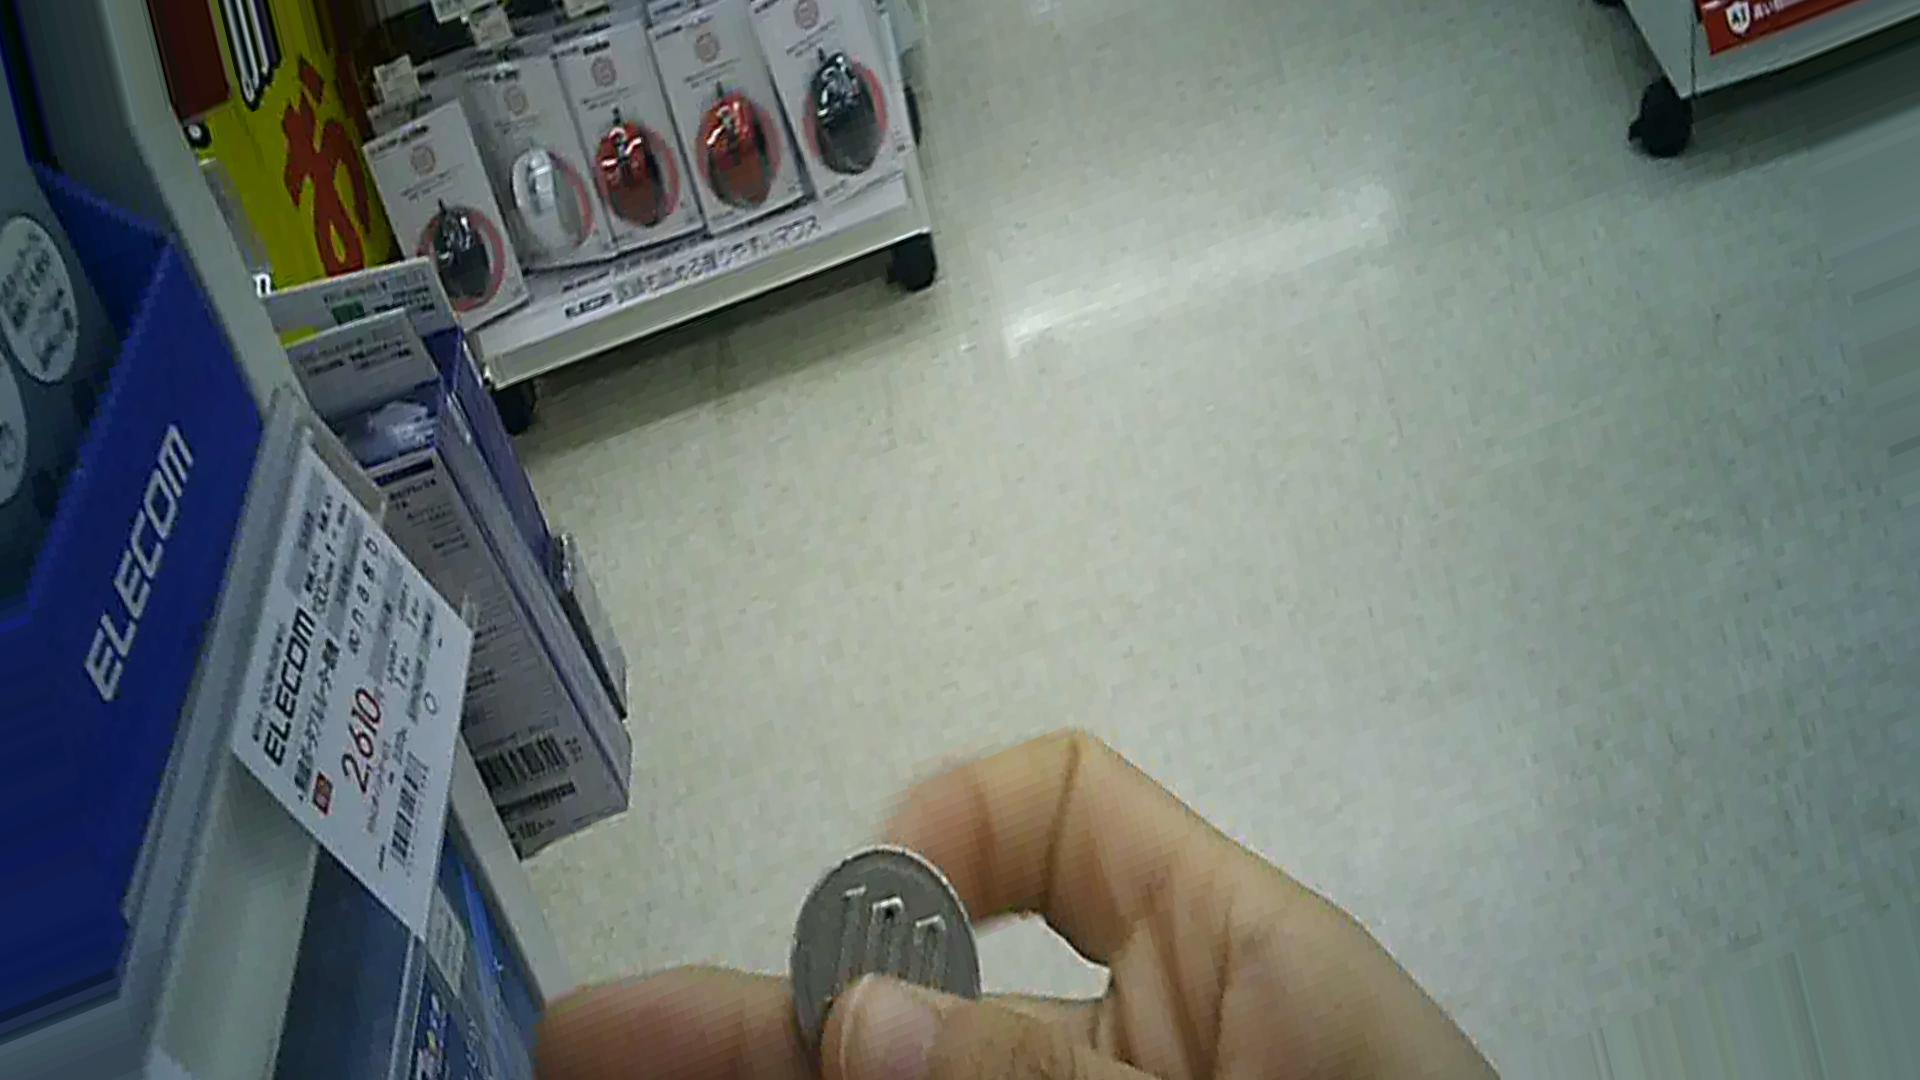100 Yen: (760, 833, 975, 1060)
